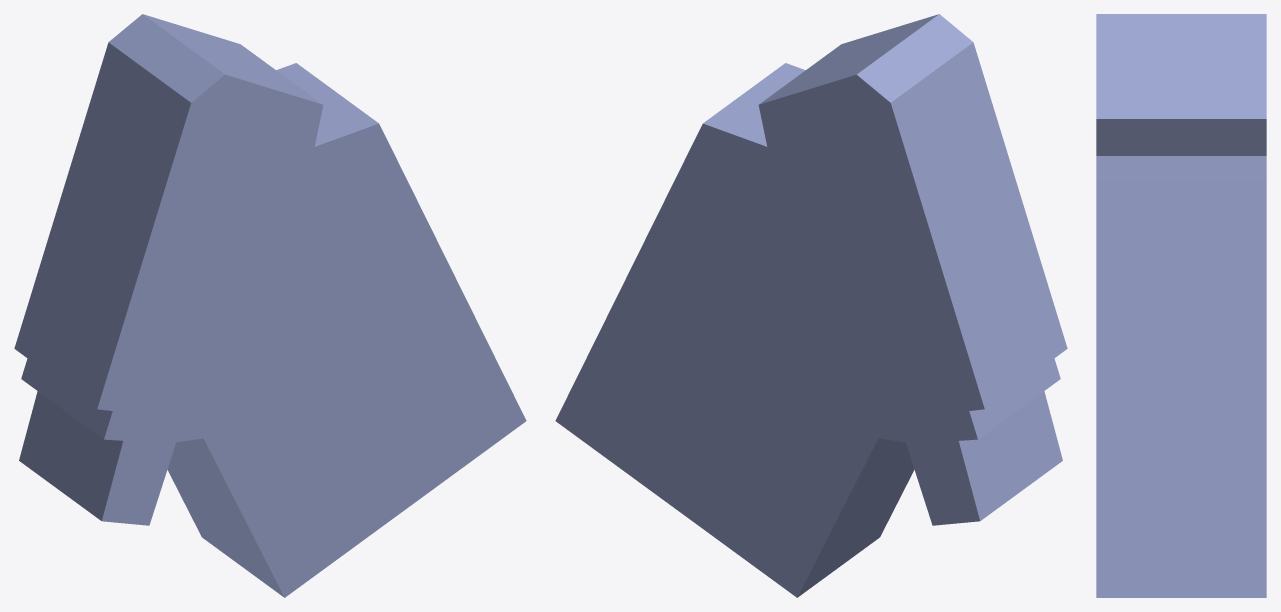
Rendered from techno-edge.glb.
3 views of the same model, side by side, from view 1: azimuth 30°, elevation 25°; view 2: azimuth 150°, elevation 25°; view 3: azimuth 270°, elevation 25° (orthographic). The views are drawn at different scales.
Visible parts, largest first — view 1: Techno Edge; view 2: Techno Edge; view 3: Techno Edge.
Part boxes in pixels (x1,y1,x2,y2): Techno Edge: (14, 14, 526, 597); Techno Edge: (555, 14, 1067, 597); Techno Edge: (1096, 14, 1266, 597).
Size of the model in its own units: 51.66 by 61.81 by 17.25.
